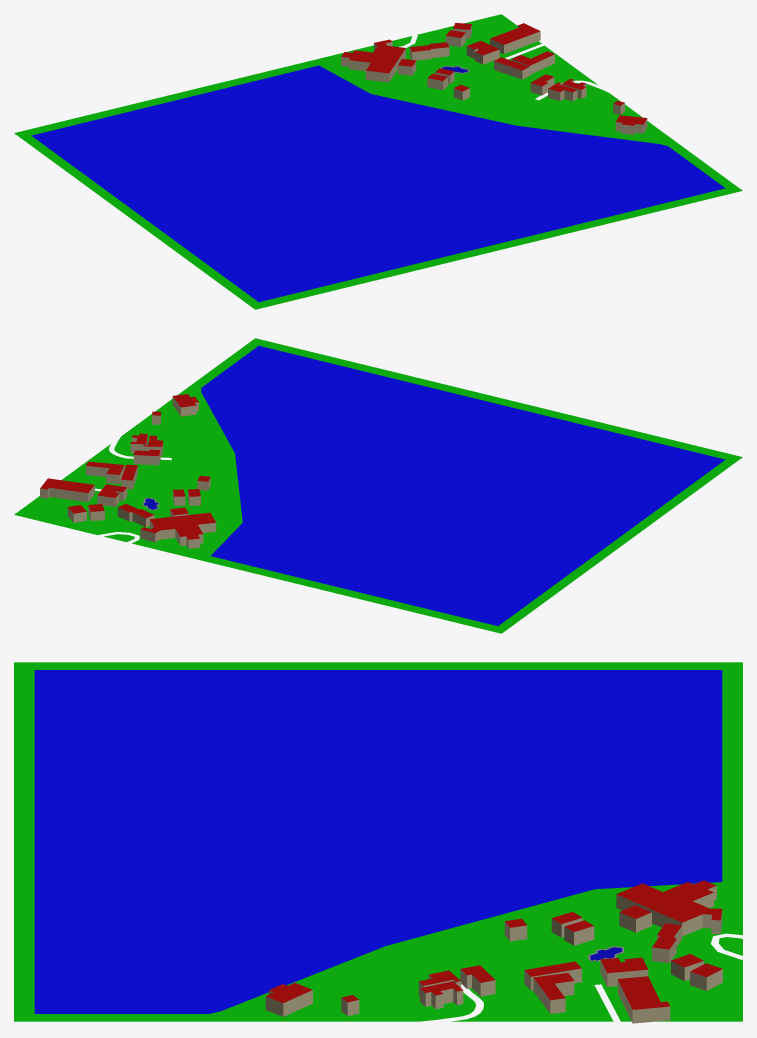
Rendered from bellairs.dae.
The picture shows the model from 3 angles, top to bottom: view 1: azimuth 30°, elevation 25°; view 2: azimuth 150°, elevation 25°; view 3: azimuth 270°, elevation 25°; orthographic projection. The views are drawn at different scales.
Visible parts, largest first — view 1: Water41, SurfaceArea62, SurfaceArea60, SurfaceArea61, SurfaceArea63, Building42, Building53, Building56, Building54, Building57, Building49, Building45; view 2: Water41, SurfaceArea62, SurfaceArea60, SurfaceArea61, SurfaceArea63, Building42, Building53, Building49, Building54, Building56, Building57; view 3: Water41, SurfaceArea62, SurfaceArea60, SurfaceArea63, SurfaceArea61, Building42, Building53, Building49, Building57, Building54, Building43, Building56 (+5 smaller).
Part boxes in pixels (x1=…): Water41: x1=31, y1=65, x2=725, y2=301; SurfaceArea62: x1=403, y1=43, x2=742, y2=224; SurfaceArea60: x1=54, y1=77, x2=603, y2=309; SurfaceArea61: x1=14, y1=48, x2=401, y2=162; SurfaceArea63: x1=362, y1=14, x2=541, y2=77; Building42: x1=341, y1=39, x2=405, y2=82; Building53: x1=490, y1=23, x2=540, y2=53; Building56: x1=409, y1=42, x2=449, y2=60; Building54: x1=466, y1=41, x2=499, y2=64; Building57: x1=615, y1=115, x2=647, y2=134; Building49: x1=511, y1=51, x2=554, y2=74; Building45: x1=494, y1=57, x2=529, y2=79; Water41: x1=201, y1=346, x2=725, y2=625; SurfaceArea62: x1=61, y1=338, x2=394, y2=514; SurfaceArea60: x1=202, y1=372, x2=742, y2=604; SurfaceArea61: x1=153, y1=525, x2=541, y2=633; SurfaceArea63: x1=14, y1=495, x2=169, y2=548; Building42: x1=140, y1=512, x2=216, y2=548; Building53: x1=40, y1=478, x2=94, y2=502; Building49: x1=86, y1=461, x2=124, y2=483; Building54: x1=97, y1=484, x2=127, y2=506; Building56: x1=117, y1=503, x2=154, y2=527; Building57: x1=172, y1=394, x2=198, y2=416; Water41: x1=34, y1=670, x2=722, y2=1013; SurfaceArea62: x1=14, y1=919, x2=621, y2=1021; SurfaceArea60: x1=14, y1=662, x2=621, y2=918; SurfaceArea63: x1=621, y1=919, x2=742, y2=1021; SurfaceArea61: x1=621, y1=662, x2=742, y2=918; Building42: x1=616, y1=880, x2=722, y2=936; Building53: x1=617, y1=976, x2=670, y2=1023; Building49: x1=533, y1=973, x2=574, y2=1013; Building57: x1=265, y1=983, x2=312, y2=1016; Building54: x1=600, y1=957, x2=648, y2=986; Building43: x1=419, y1=981, x2=463, y2=1009; Building56: x1=652, y1=923, x2=682, y2=963.
Size of the model in its own units: 422 by 360 by 7.5.
